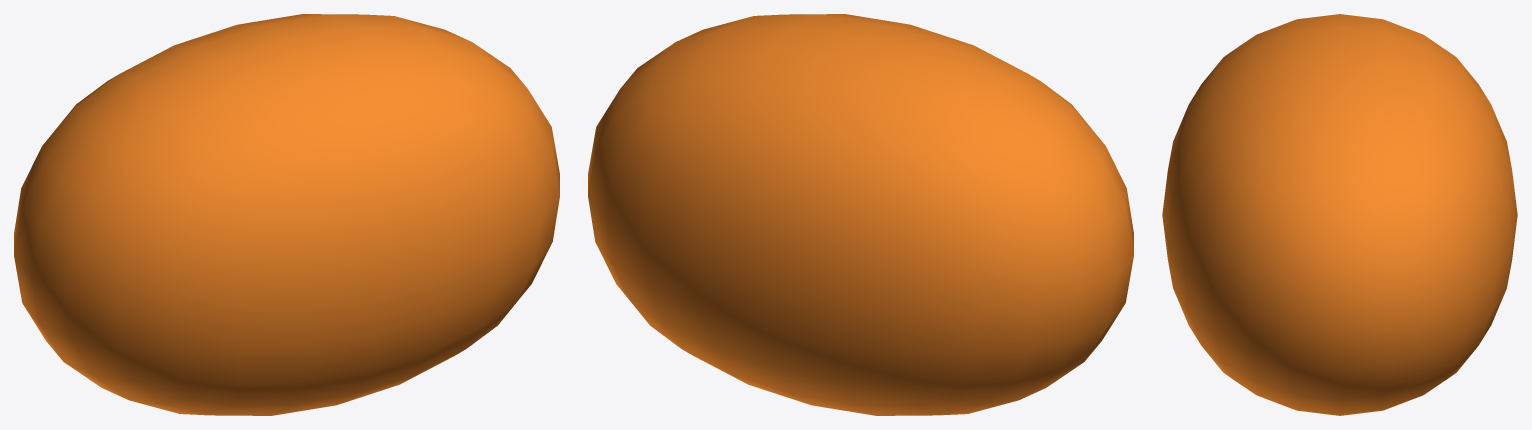
Rendered from Jellybean_03.fbx.
The picture shows the model from 3 angles, left to right: view 1: azimuth 30°, elevation 25°; view 2: azimuth 150°, elevation 25°; view 3: azimuth 270°, elevation 25°; orthographic projection. The views are drawn at different scales.
Visible parts, largest first — view 1: Jellybean_03_LOD0; view 2: Jellybean_03_LOD0; view 3: Jellybean_03_LOD0.
Part boxes in pixels (x1,y1,x2,y2): Jellybean_03_LOD0: (14, 14, 559, 415); Jellybean_03_LOD0: (588, 14, 1133, 415); Jellybean_03_LOD0: (1162, 14, 1517, 415).
Size of what is drawn, in the model's own units: 313 by 206 by 206.
